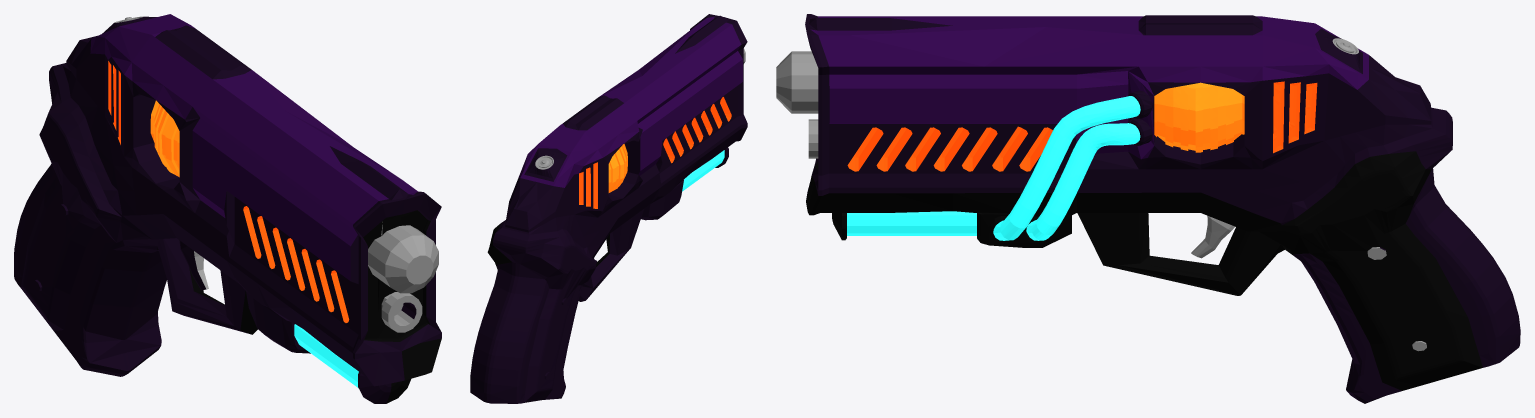
File: Gun_pistol.fbx
3 views of the same model, side by side, from view 1: azimuth 30°, elevation 25°; view 2: azimuth 150°, elevation 25°; view 3: azimuth 270°, elevation 25° (orthographic). The views are drawn at different scales.
Parts seen in each view (by area): view 1: Gun; view 2: Gun; view 3: Gun.
Part boxes in pixels (x1,y1,x2,y2): Gun: (14,14,441,403); Gun: (470,14,747,403); Gun: (776,14,1520,403).
Bounding box in the file's own units: 77.18 × 235 × 415.
